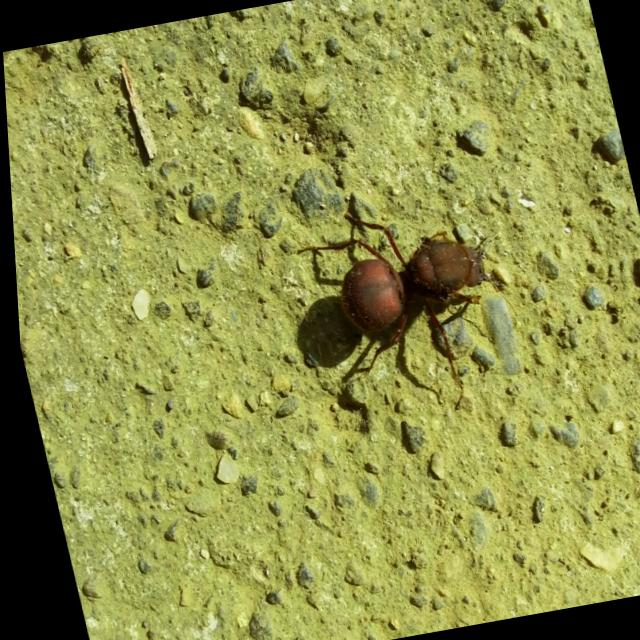Alive-Female-Dealate: (284, 186, 542, 430)
